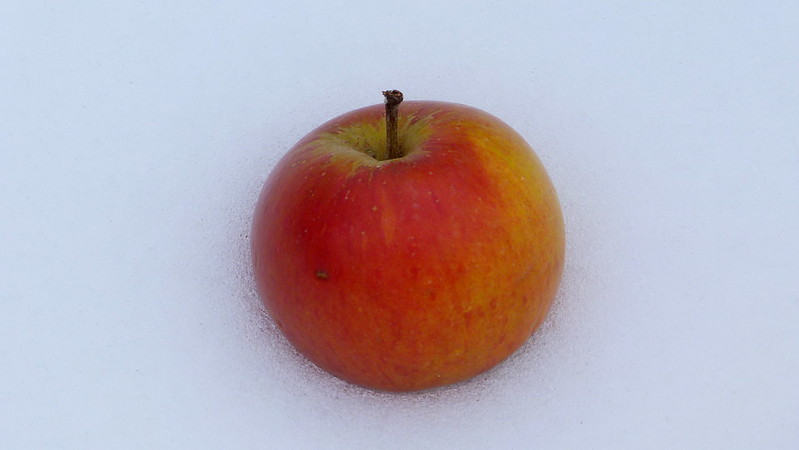apple: (242, 99, 562, 389)
